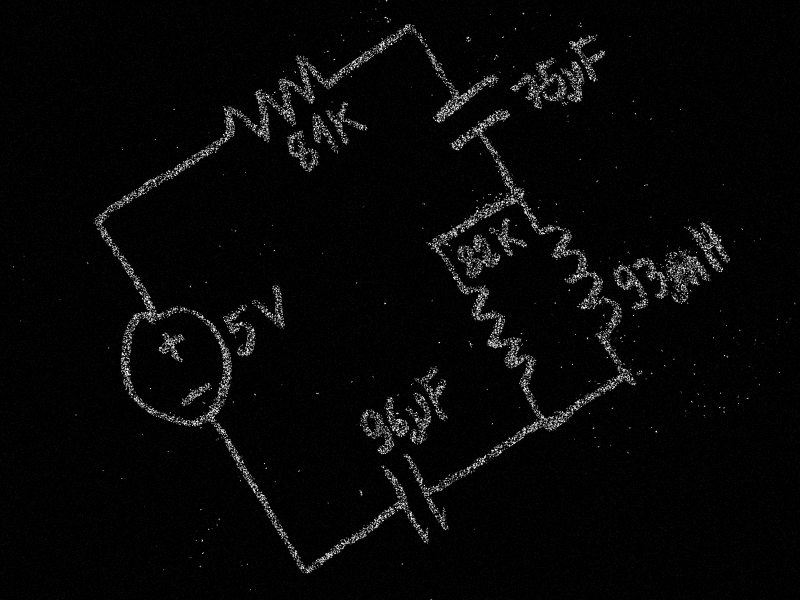1: (299, 108, 347, 164)
2: (467, 228, 505, 271)
3: (629, 250, 675, 303)
5: (214, 298, 272, 362), (528, 49, 577, 106)
6: (374, 393, 415, 441)
7: (506, 66, 557, 121)
8: (279, 124, 326, 178), (449, 239, 488, 283)
9: (350, 403, 401, 460), (606, 259, 654, 315)
F: (412, 362, 465, 423), (566, 26, 619, 86)
H: (682, 212, 737, 277)
V: (246, 279, 303, 339)
k: (321, 92, 374, 151), (487, 214, 531, 262)
m: (662, 248, 715, 302)
u: (397, 390, 445, 443), (559, 59, 595, 100)
